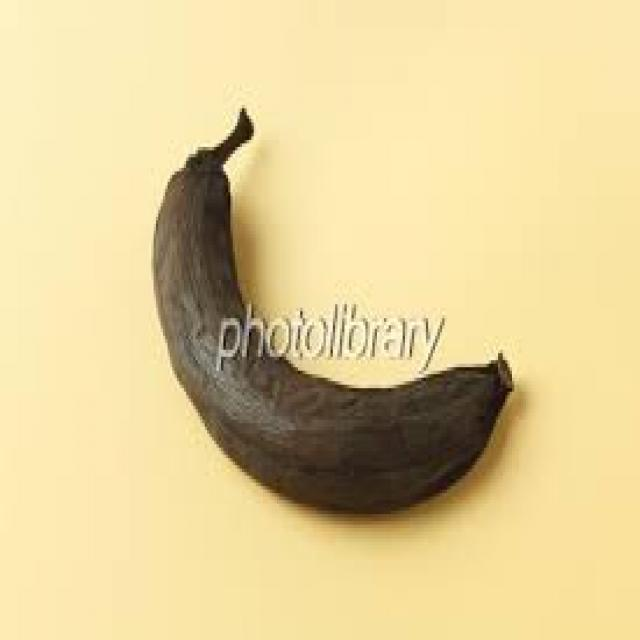organic waste: (151, 105, 510, 514)
